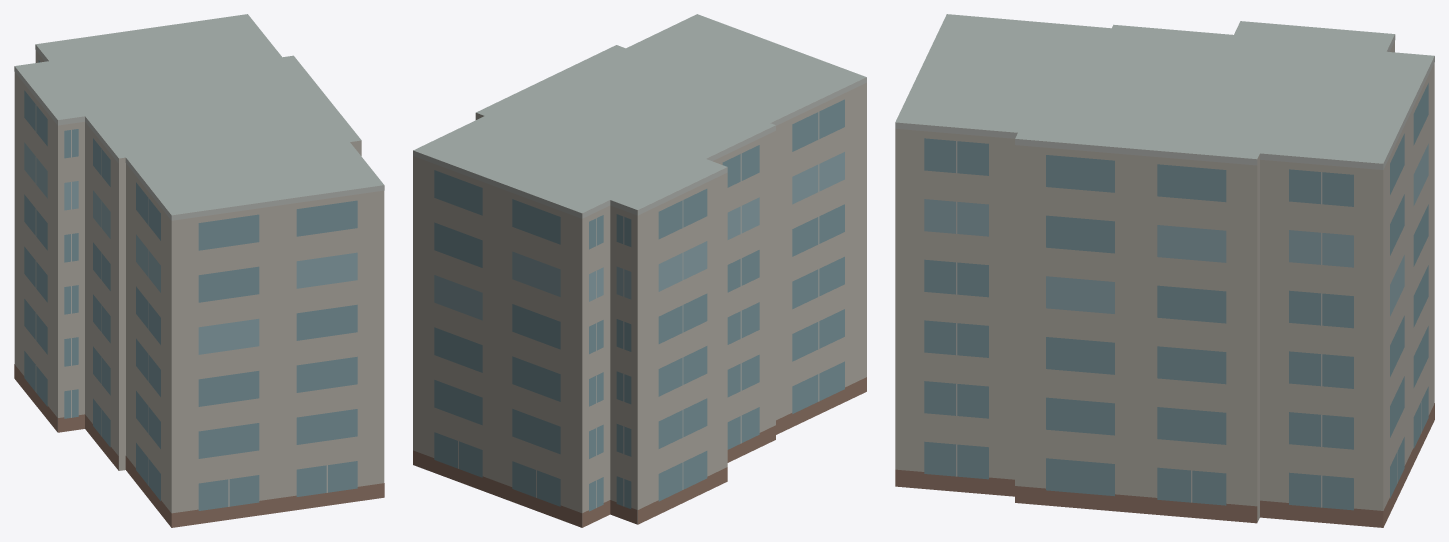
Rendered from survey-upis-32700456.glb.
3 views of the same model, side by side, from view 1: azimuth 30°, elevation 25°; view 2: azimuth 150°, elevation 25°; view 3: azimuth 270°, elevation 25° (orthographic). The views are drawn at different scales.
Parts seen in each view (by area): view 1: survey-upis-32700456.tmp; view 2: survey-upis-32700456.tmp; view 3: survey-upis-32700456.tmp.
Boxes of the visible parts, x1=… form: survey-upis-32700456.tmp: x1=14, y1=14, x2=384, y2=527; survey-upis-32700456.tmp: x1=413, y1=14, x2=866, y2=527; survey-upis-32700456.tmp: x1=895, y1=14, x2=1434, y2=527.
Size of the model in its own units: 12.45 by 14.1 by 18.95.
